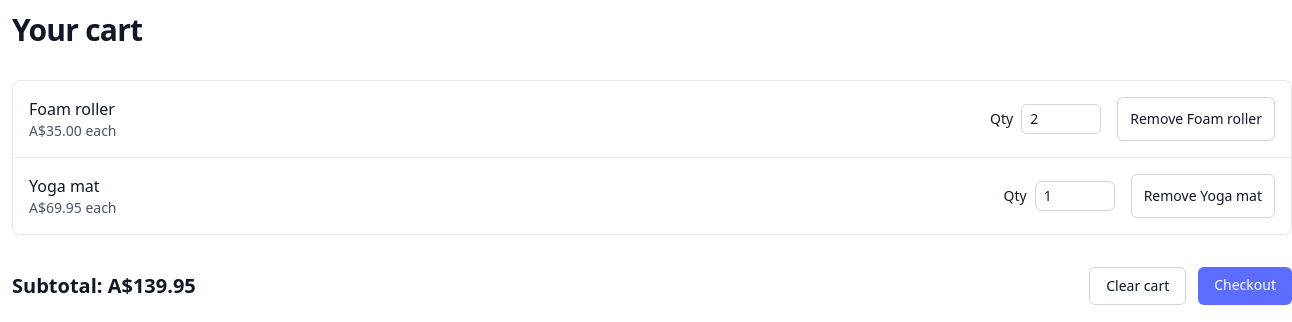
Test: CartView › clears the cart when the operator clicks Clear cart
Click the button "Clear cart". click: (1138, 286)
box: [1089,267,1186,305]
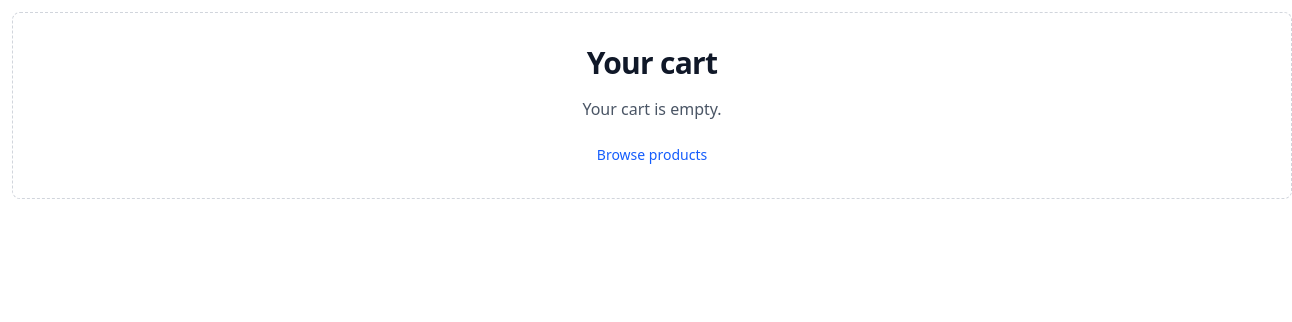
expect the text "Your cart is empty." is shown: met, box [582,98,722,120]
